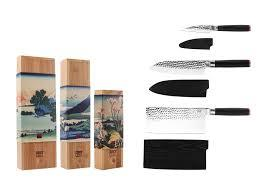Knife: (151, 59, 250, 70)
